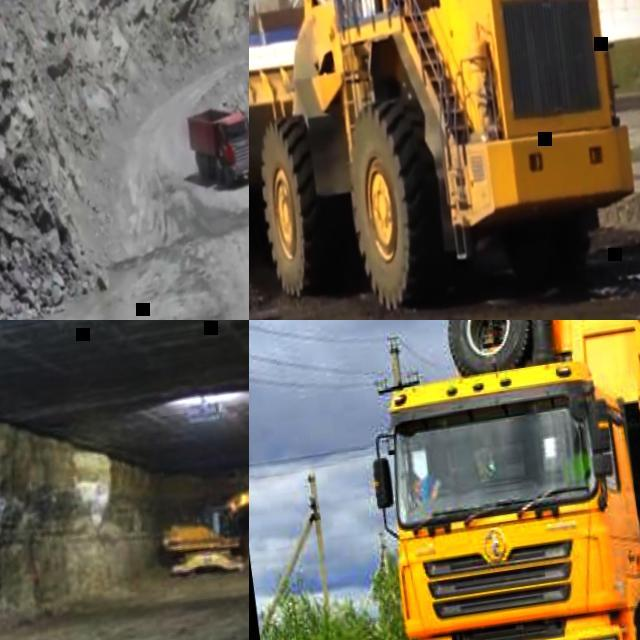vest: (560, 450, 594, 486), (412, 473, 440, 503)
